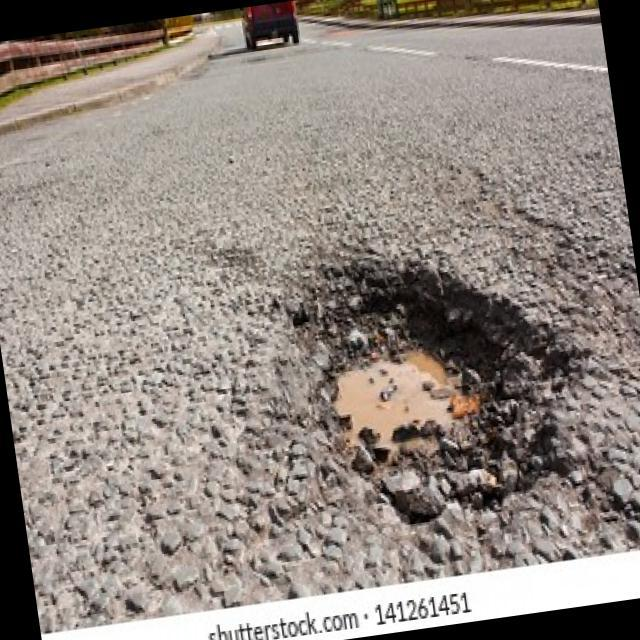Pothole: (273, 227, 592, 548)
